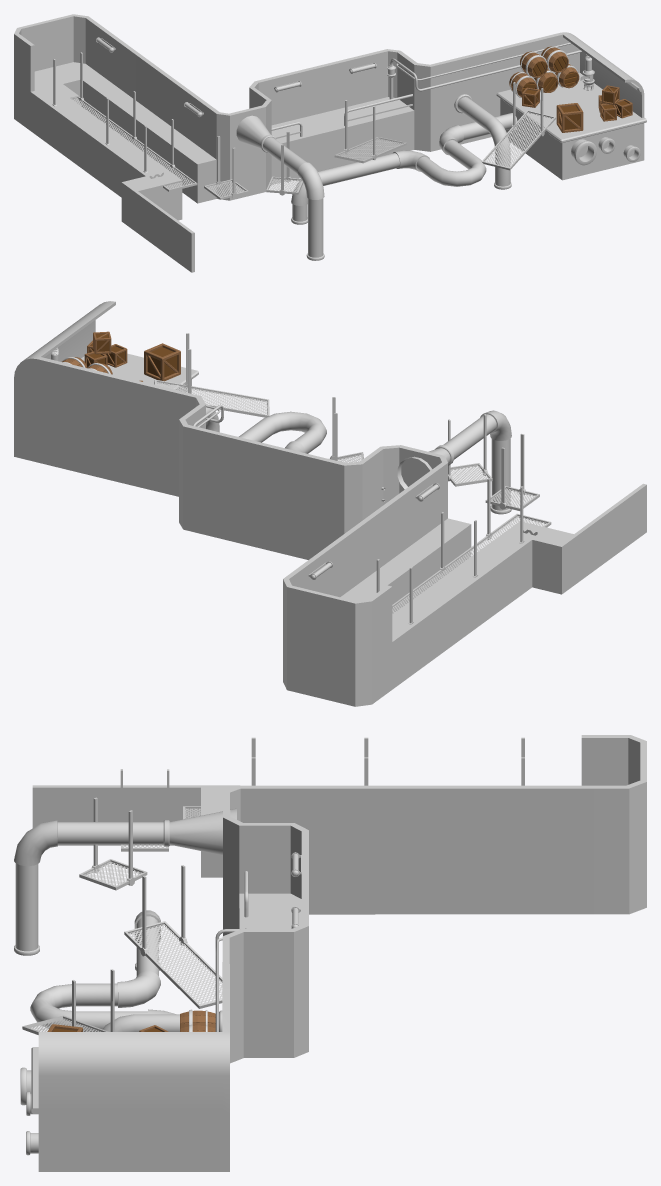
Rendered from Area 3 V2.fbx.
3 renders of one model, top to bottom at view 1: azimuth 30°, elevation 25°; view 2: azimuth 150°, elevation 25°; view 3: azimuth 270°, elevation 25°, orthographic. The views are drawn at different scales.
Parts seen in each view (by area): view 1: Area1.2 Platform 1.001, Pipe .005, Pipe .007, Mesh Flooring 1.003, Pipe .006, Mesh Flooring 1.002, Area1.2 Platform 1.002, Mesh Flooring 1.001, crate.005, Cylinder.063, barrel.004, barrel.005 (+9 smaller); view 2: Area1.2 Platform 1.001, Pipe .007, Pipe .005, Mesh Flooring 1.003, crate.005, Mesh Flooring 1.001, Cube.036, Cube.035, Cube.034; view 3: Area1.2 Platform 1.001, Pipe .007, Pipe .005, Mesh Flooring 1.002, Pipe .006, Cube.036, Cylinder.064, Cylinder.059, Mesh Flooring 1.003.
Part boxes in pixels (bbox=[...]): Area1.2 Platform 1.001: bbox=[14, 14, 646, 272]; Pipe .005: bbox=[291, 113, 517, 224]; Pipe .007: bbox=[236, 115, 324, 260]; Mesh Flooring 1.003: bbox=[481, 110, 555, 170]; Pipe .006: bbox=[454, 94, 511, 189]; Mesh Flooring 1.002: bbox=[334, 137, 406, 163]; Area1.2 Platform 1.002: bbox=[35, 65, 84, 105]; Mesh Flooring 1.001: bbox=[72, 98, 193, 188]; crate.005: bbox=[556, 103, 583, 132]; Cylinder.063: bbox=[387, 50, 581, 99]; barrel.004: bbox=[520, 51, 547, 77]; barrel.005: bbox=[541, 46, 568, 72]; Area1.2 Platform 1.001: bbox=[14, 301, 646, 706]; Pipe .007: bbox=[397, 410, 511, 514]; Pipe .005: bbox=[238, 411, 326, 453]; Mesh Flooring 1.003: bbox=[154, 379, 269, 417]; crate.005: bbox=[144, 343, 180, 381]; Mesh Flooring 1.001: bbox=[392, 516, 546, 614]; Cube.036: bbox=[449, 463, 492, 486]; Cube.035: bbox=[485, 486, 539, 510]; Cube.034: bbox=[392, 513, 551, 608]; Area1.2 Platform 1.001: bbox=[31, 735, 646, 1171]; Pipe .007: bbox=[14, 808, 236, 955]; Pipe .005: bbox=[30, 910, 175, 1031]; Mesh Flooring 1.002: bbox=[124, 921, 222, 1008]; Pipe .006: bbox=[102, 1010, 222, 1031]; Cube.036: bbox=[79, 859, 147, 890]; Cylinder.064: bbox=[140, 865, 187, 956]; Cylinder.059: bbox=[91, 797, 135, 885]; Mesh Flooring 1.003: bbox=[22, 1015, 108, 1034].
Bounding box in the file's own units: 10465 × 2156 × 8520.
